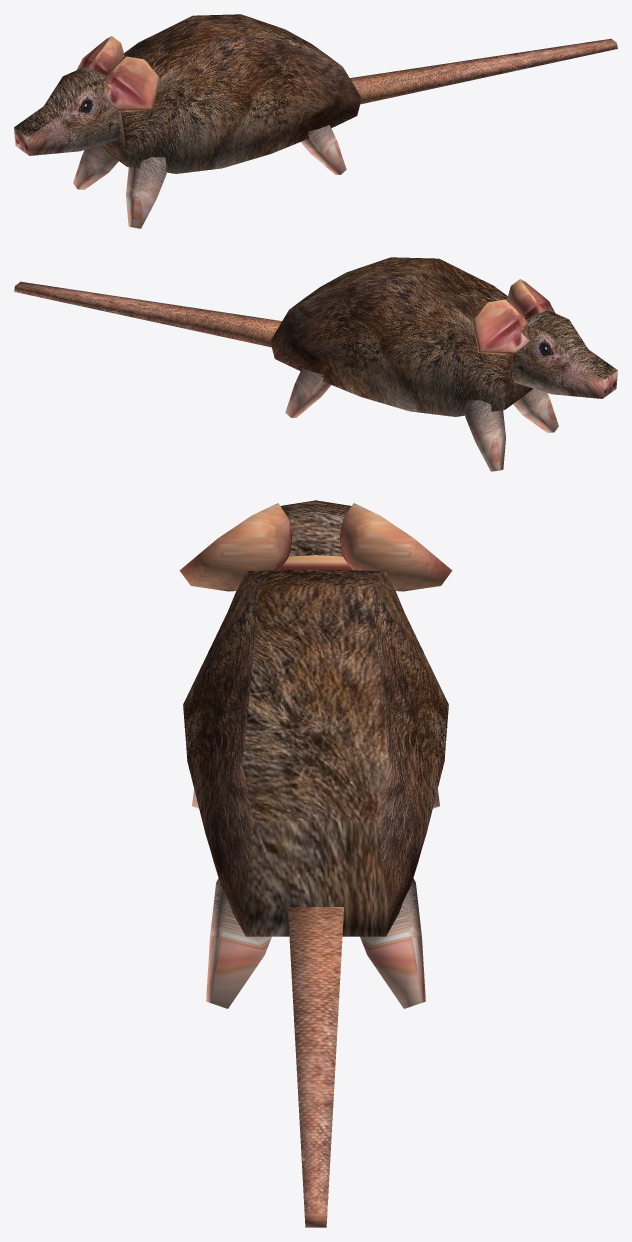
File: rat.fbx
The picture shows the model from 3 angles, top to bottom: view 1: azimuth 30°, elevation 25°; view 2: azimuth 150°, elevation 25°; view 3: azimuth 270°, elevation 25°; orthographic projection. The views are drawn at different scales.
Visible parts, largest first — view 1: Cube; view 2: Cube; view 3: Cube.
Boxes of the visible parts, bbox=[...] form: Cube: bbox=[14, 14, 617, 228]; Cube: bbox=[14, 257, 617, 471]; Cube: bbox=[179, 500, 452, 1227].
Size of the model in its own units: 9.2 by 2.38 by 1.83.
